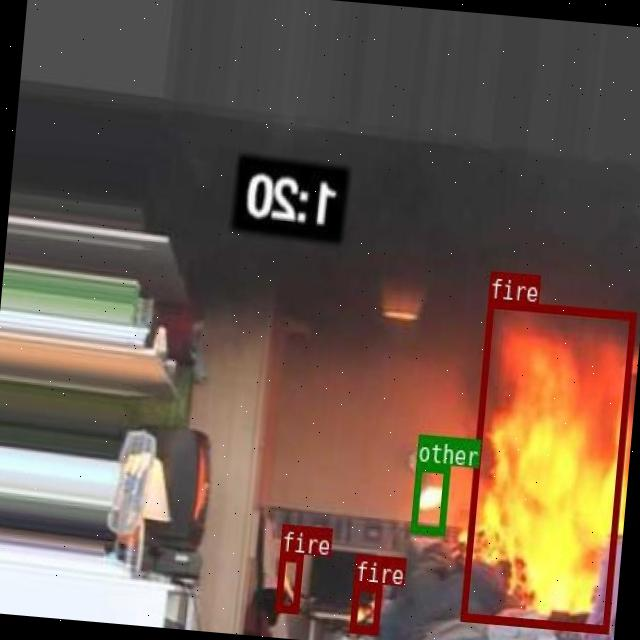fire: (460, 298, 636, 632), (274, 551, 302, 612), (349, 581, 381, 632)
